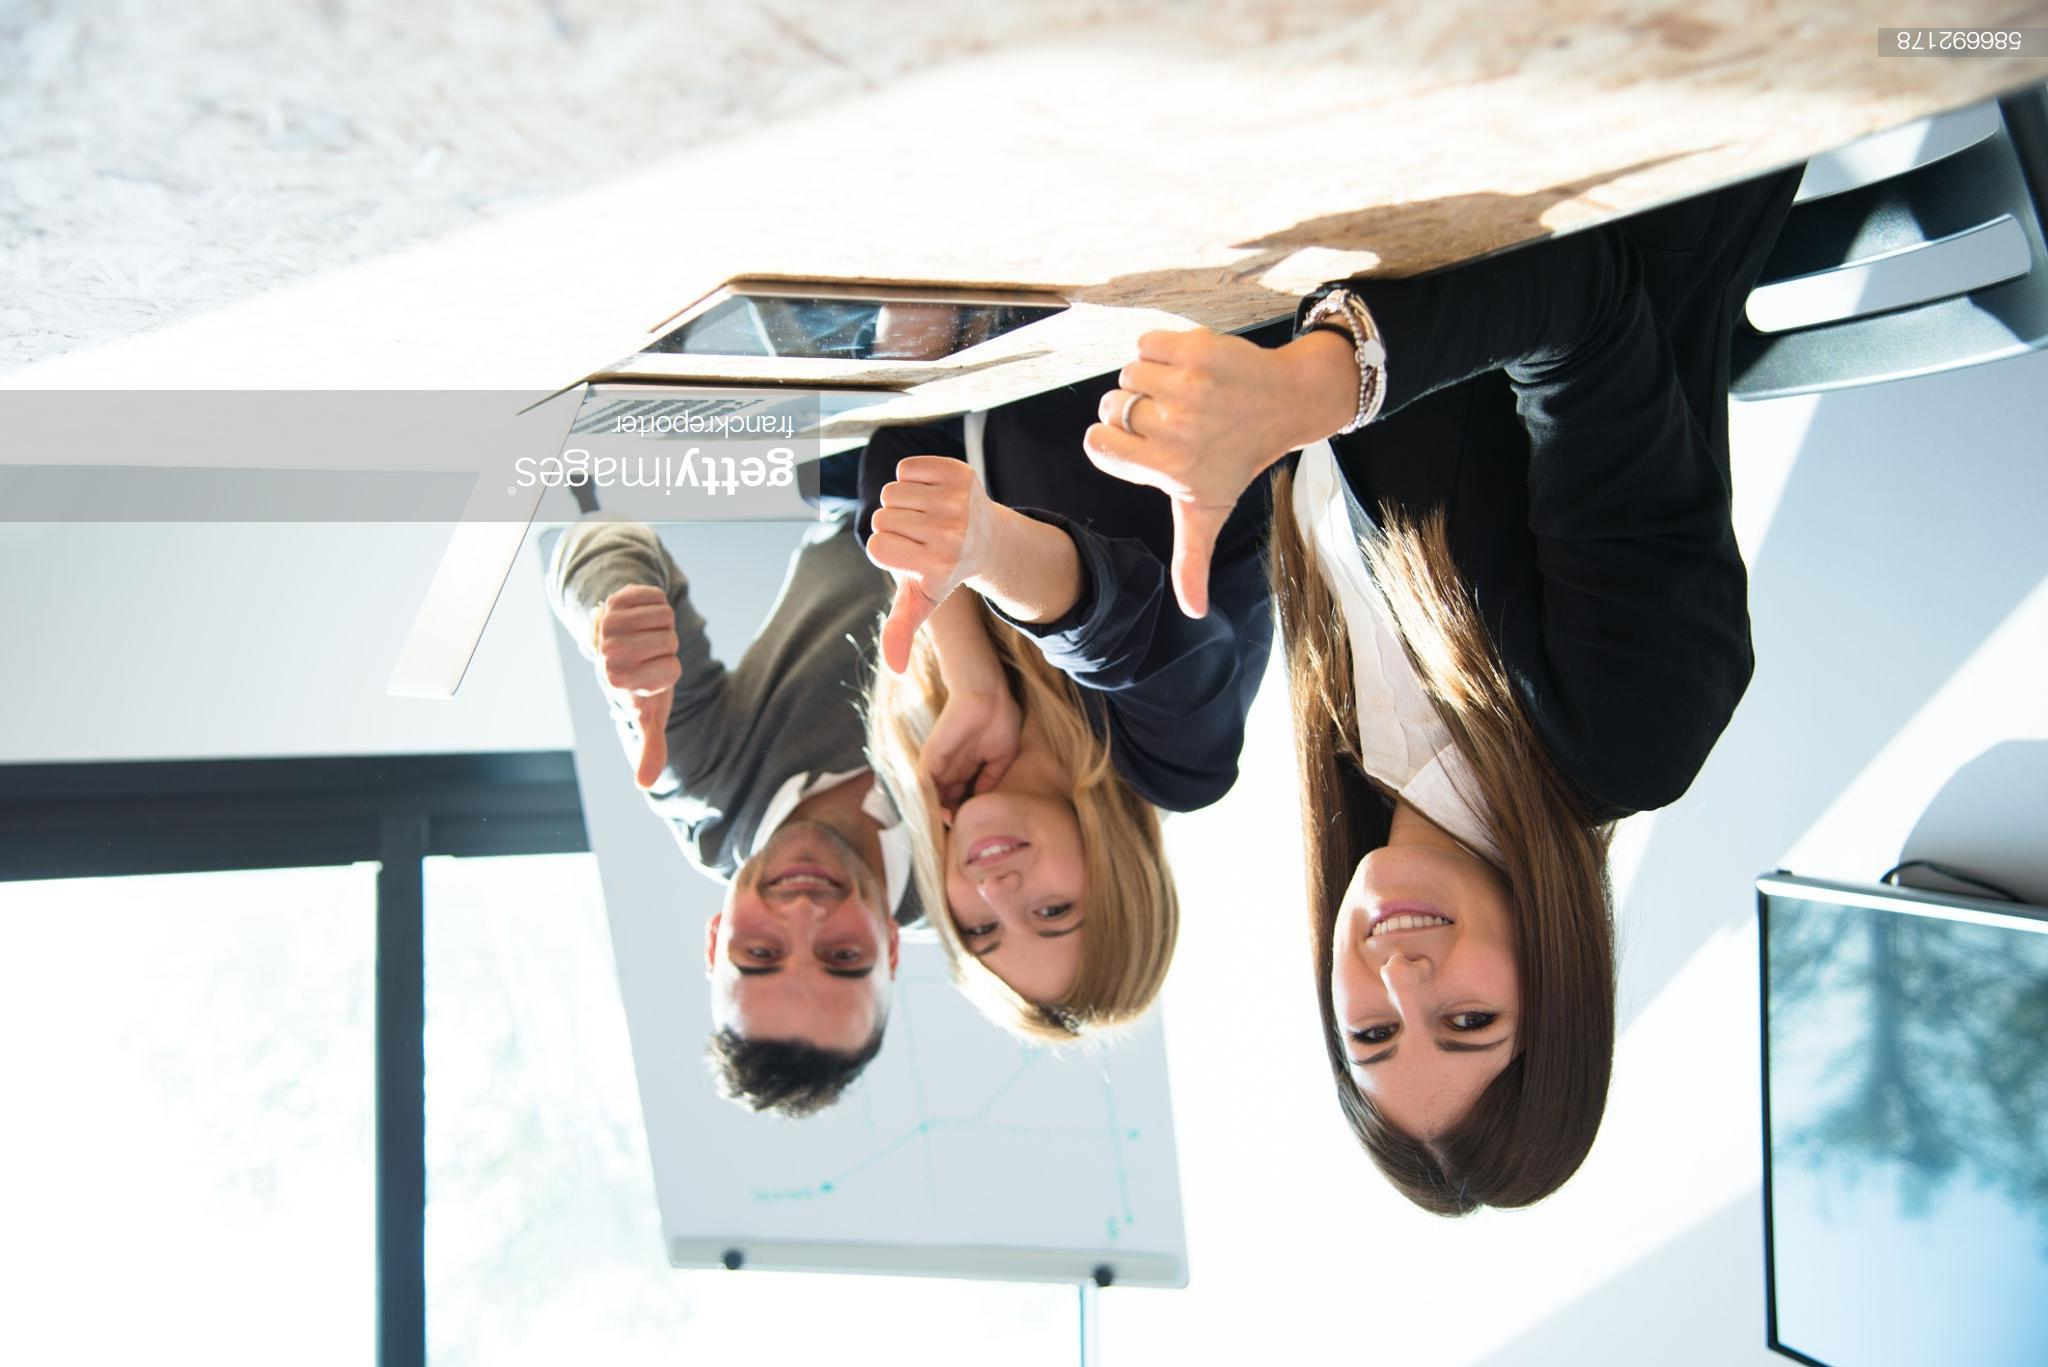thumbsdown: (1083, 328, 1247, 622), (865, 455, 979, 676), (601, 584, 682, 790)
